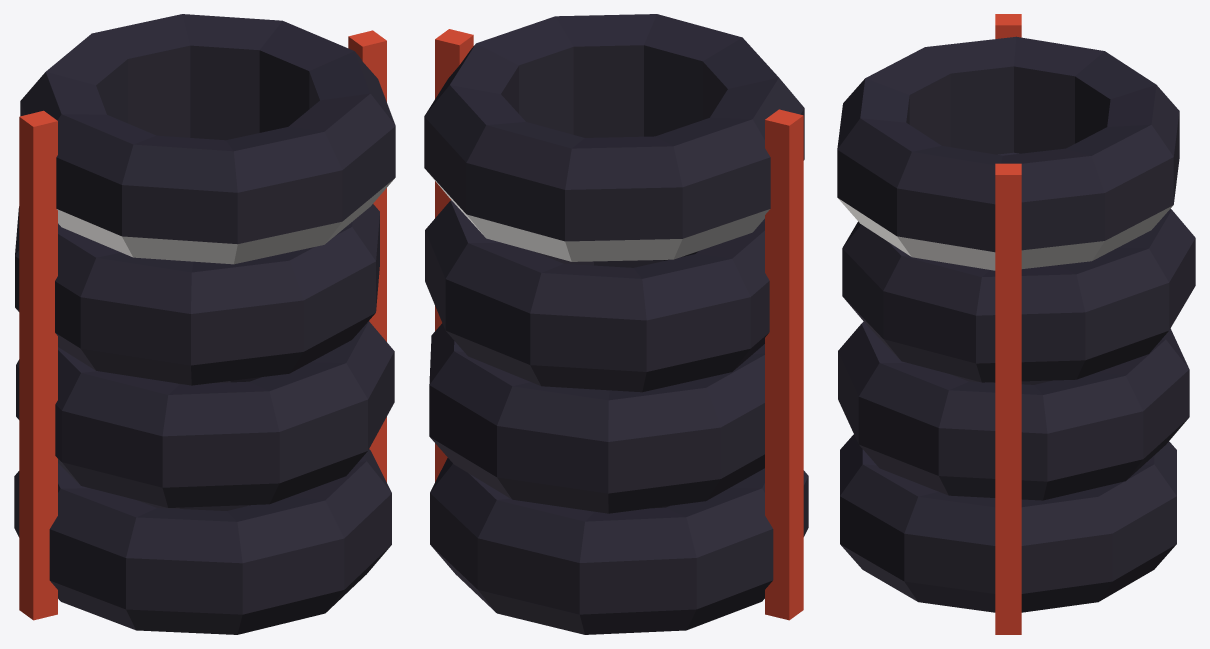
File: tire_stack.glb
3 views of the same model, side by side, from view 1: azimuth 30°, elevation 25°; view 2: azimuth 150°, elevation 25°; view 3: azimuth 270°, elevation 25° (orthographic). The views are drawn at different scales.
Visible parts, largest first — view 1: tire_stack; view 2: tire_stack; view 3: tire_stack.
Boxes of the visible parts, x1,y1,x2,y2 form: tire_stack: (14,14,395,634); tire_stack: (424,14,808,634); tire_stack: (837,14,1195,634).
Bounding box in the file's own units: 0.72 × 0.96 × 0.6778.
